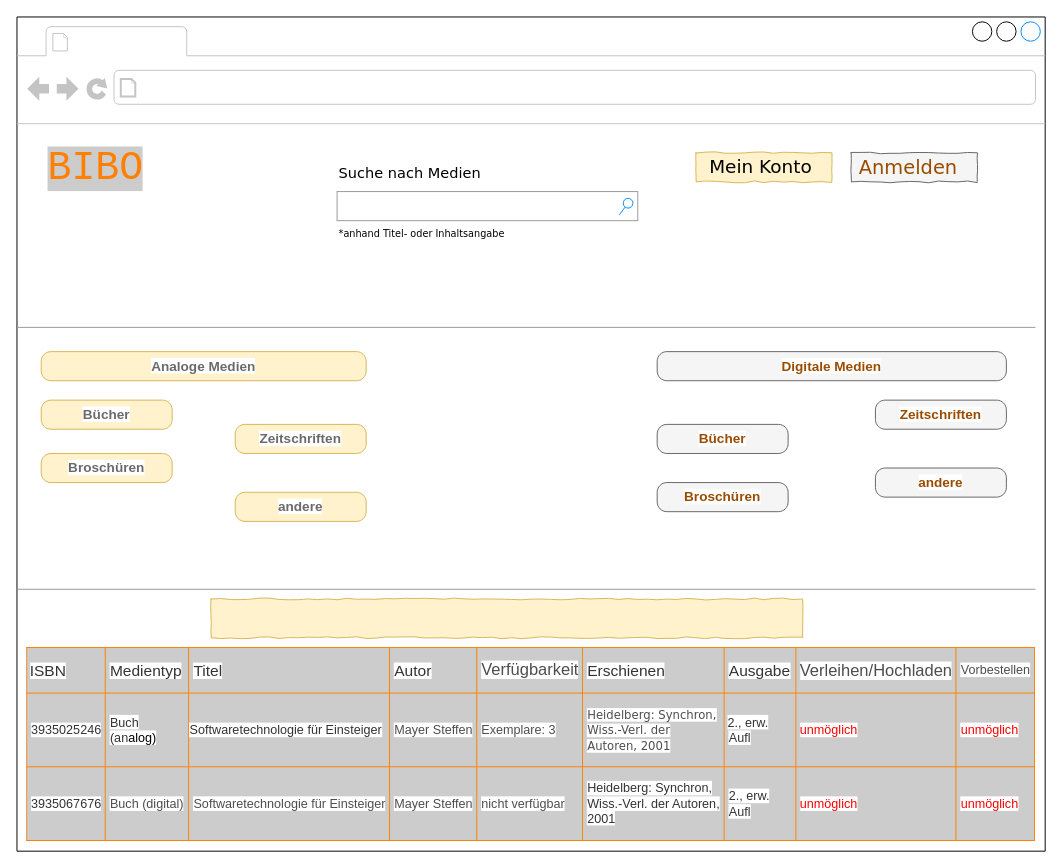
Image size: 1062x868. Some labels were removed from this diagram. The shapes that lost their labels are listed below. From the top down, each one's box as (x1, y1, x2, y2) in pixels, then its label:
(74, 28, 182, 54): Page 1
(142, 74, 386, 100): https://www.bibo.de
(336, 191, 638, 221): Softwaretechnologie für Einsteiger
(210, 598, 803, 638): Suchresultate für Softwaretechnologie für Einsteiger
